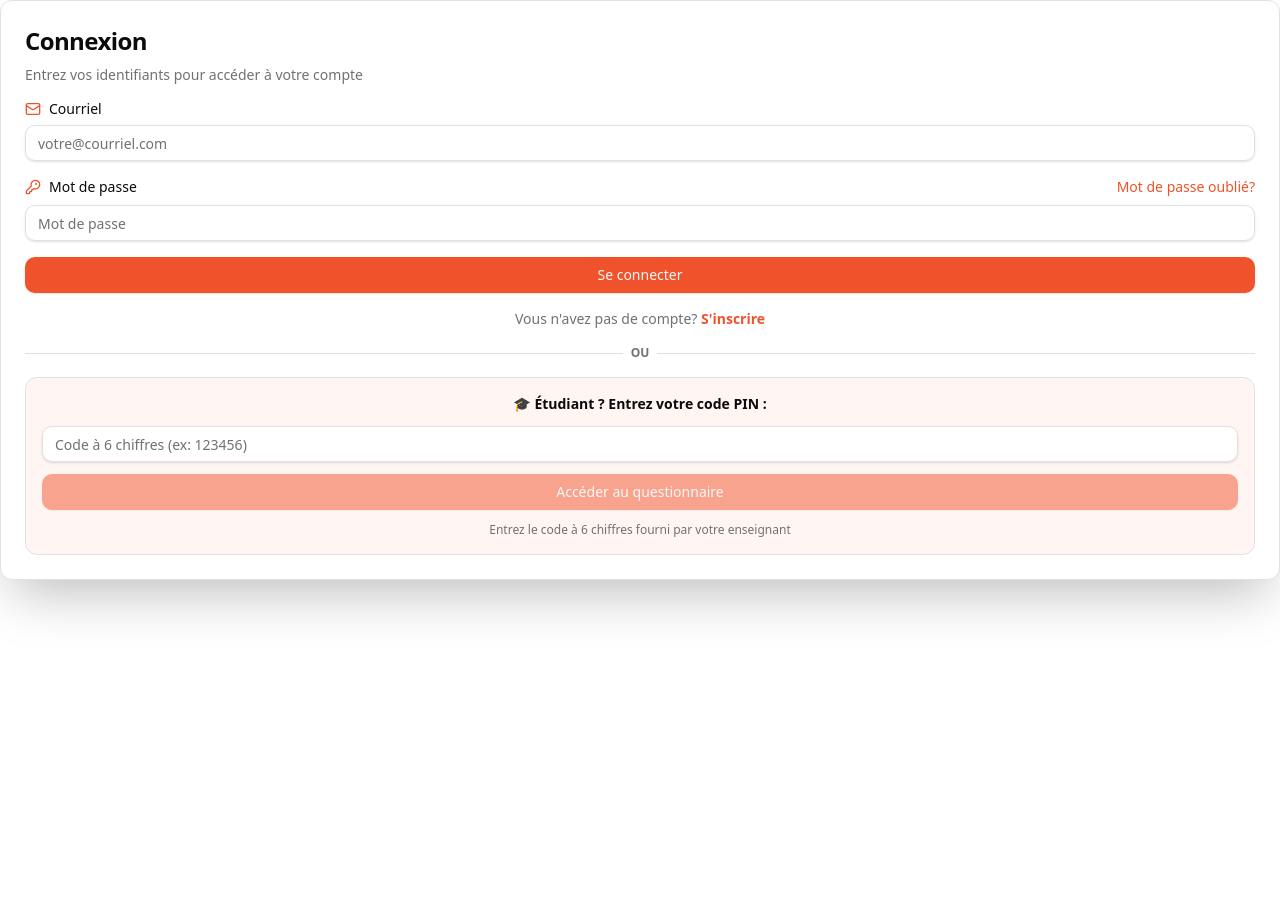
SignInCard › displays error on failed login
In the field labelled "Courriel": coordinates (640, 143) [25,125,1255,161], type "test@test.com"
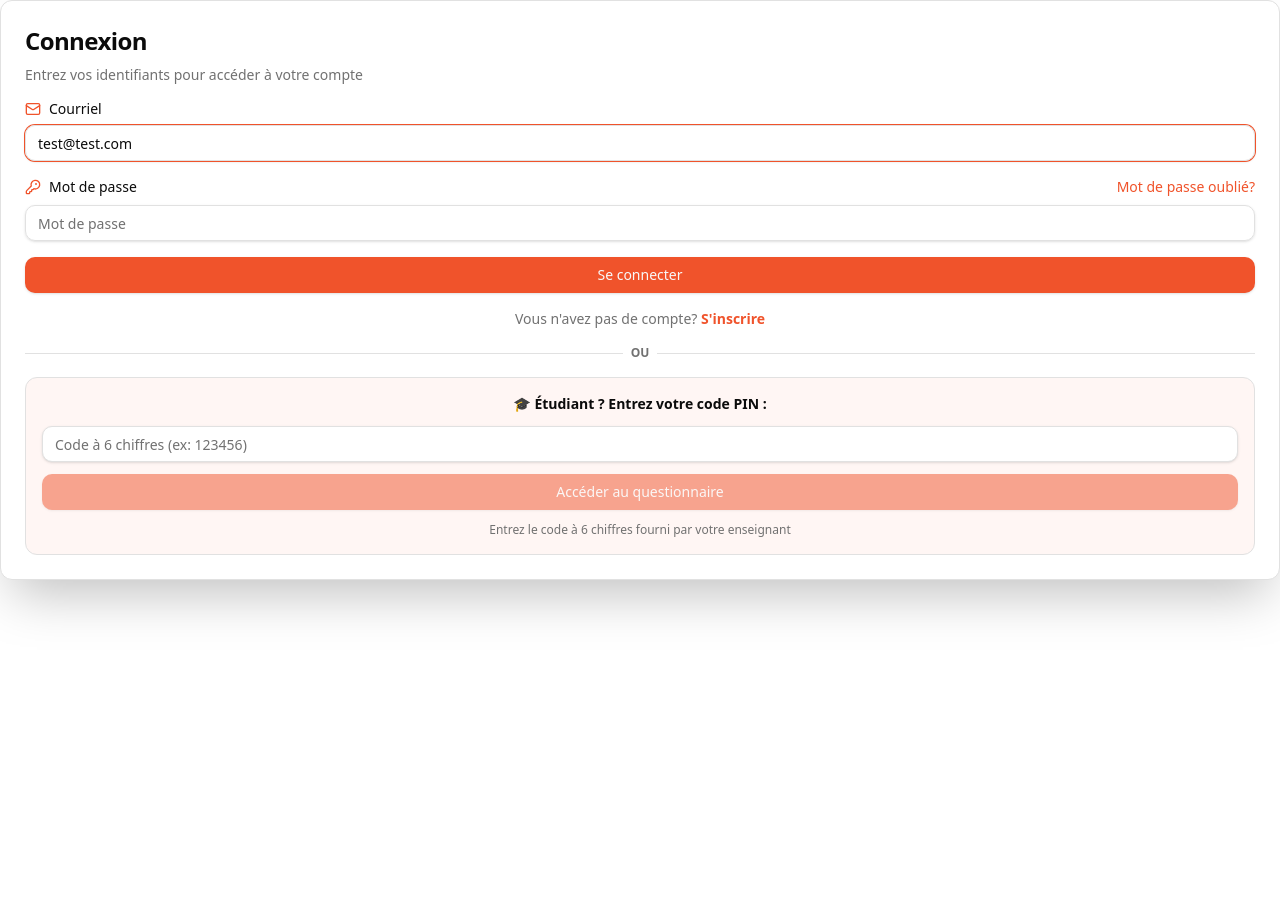
In the password field labelled "Mot de passe": coordinates (640, 223) [25,205,1255,241], type "wrongpassword"
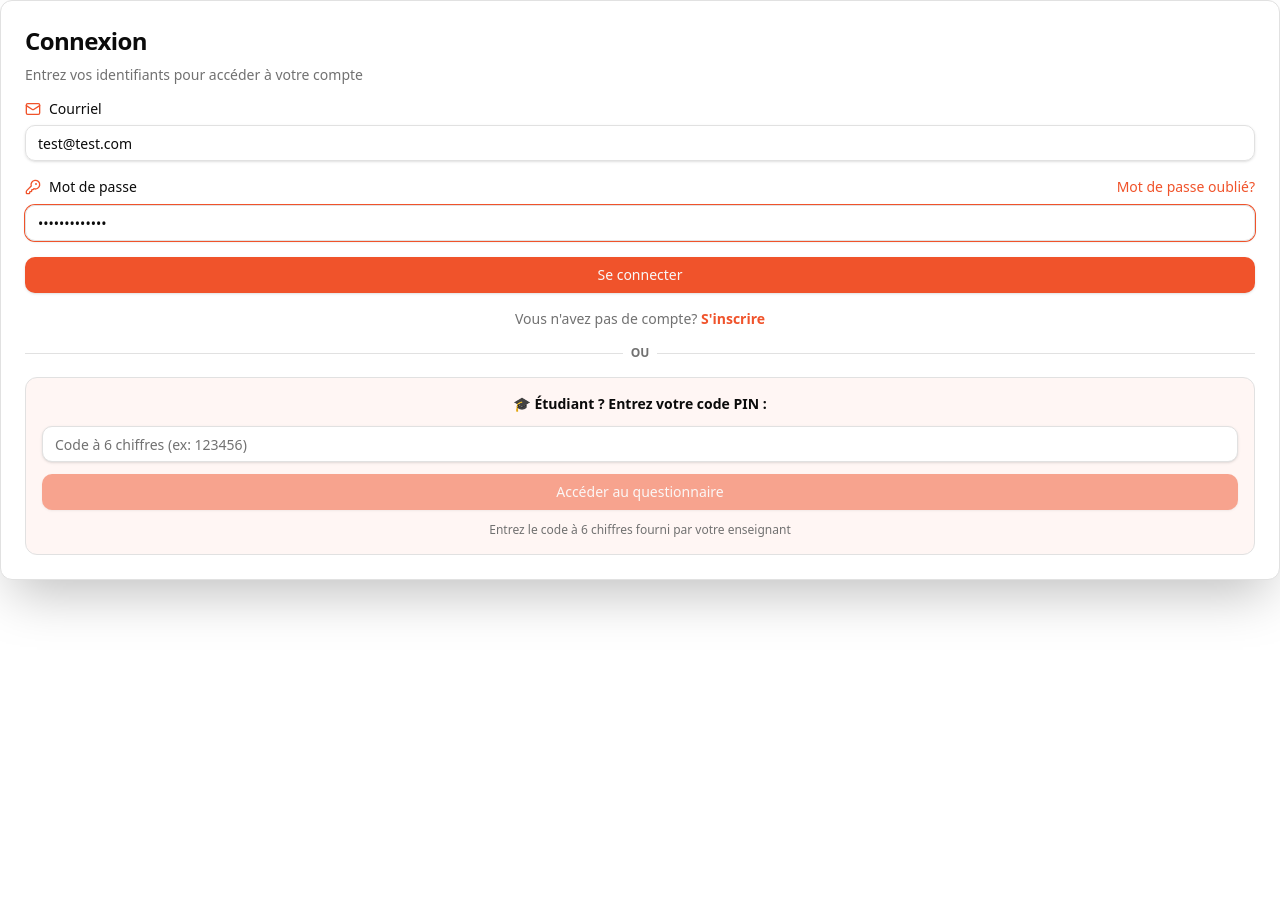
Click the button "Se connecter": coordinates (640, 275) [25,257,1255,293]
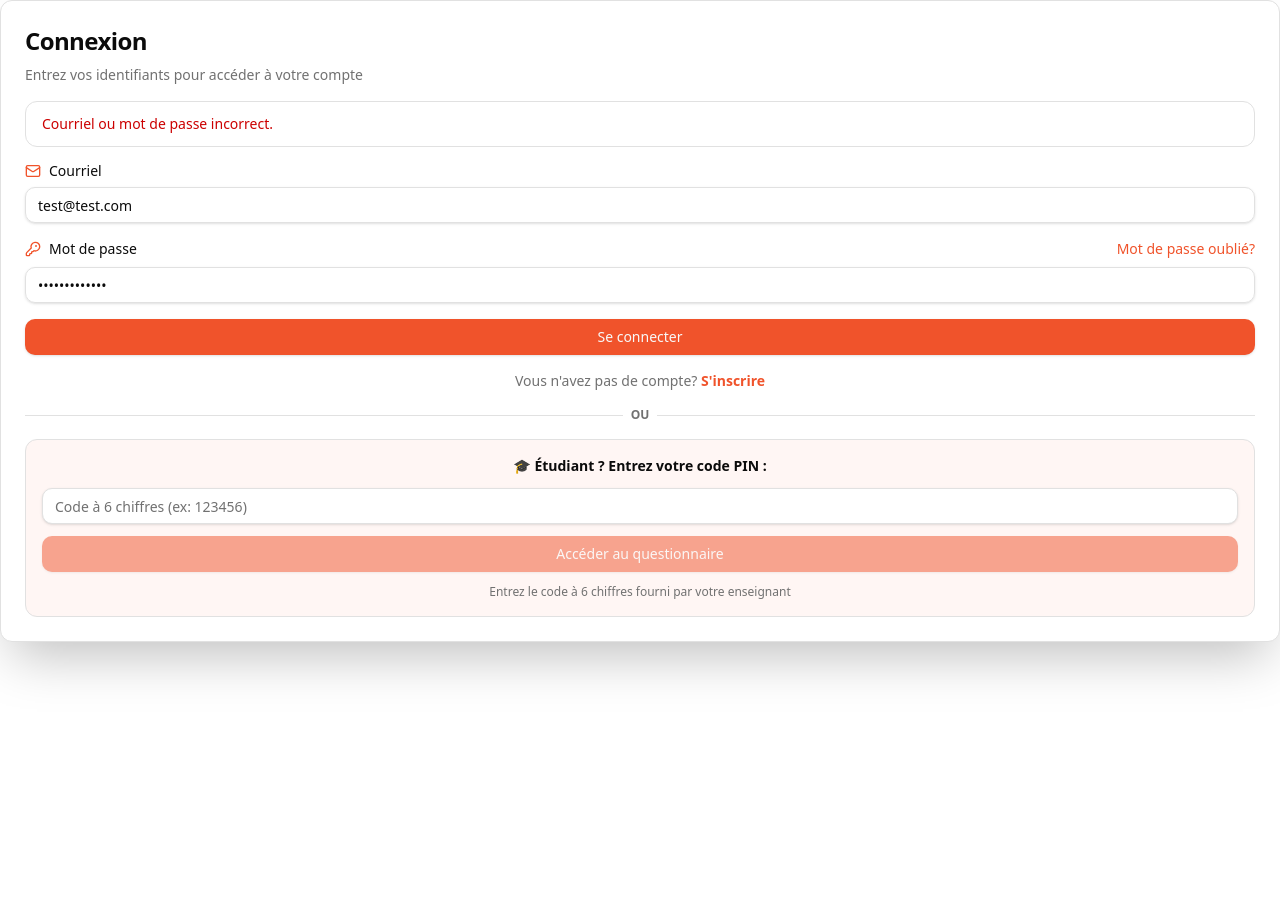
Check: the text "Courriel ou mot de passe incorrect." is shown, box [42,114,273,133]
